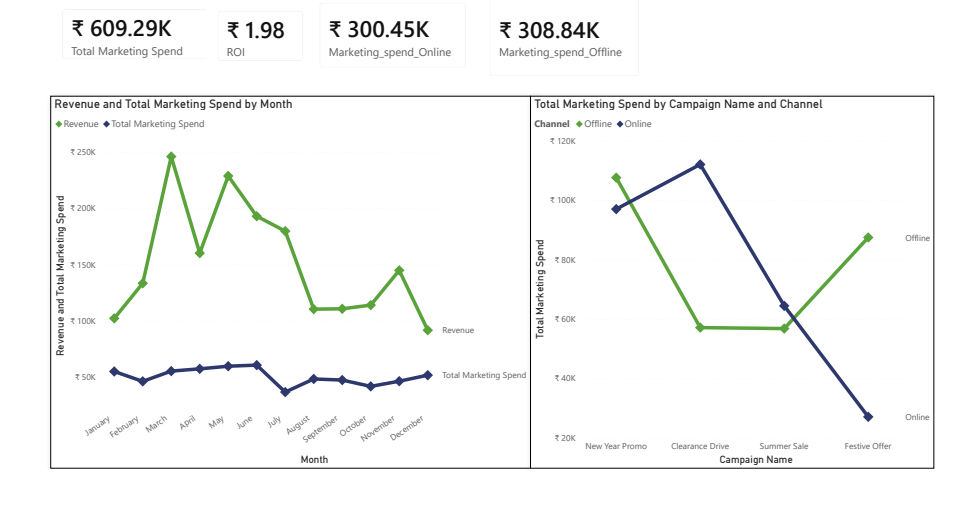

The dashboard page shown, as its layout file describes it:
{"tool":"powerbi","page":{"name":"Marketing  View","canvas":[1280,720],"ordinal":1},"visuals":[{"type":"cardVisual","fields":{"Data":["Dim_channel.Total Marketing Spend"]},"box":[19.2,48,242.9,105.7],"z":0},{"type":"lineChart","fields":{"Category":["Dim_date.Date.Variation.Date Hierarchy.Month"],"Y":["Dim_channel.Revenue","Dim_channel.Total Marketing Spend"]},"box":[19.2,188,684.7,532.4],"z":1000},{"type":"cardVisual","fields":{"Data":["Dim_channel.ROI"]},"box":[241.5,49.4,155.1,105.7],"z":2000},{"type":"lineChart","fields":{"Y":["Dim_channel.Total Marketing Spend"],"Category":["Marketing_Table.Campaign Name"],"Series":["Dim_channel.Channel"]},"box":[703.9,188,576.3,532.4],"z":2001},{"type":"cardVisual","fields":{"Data":["Dim_channel.Marketing_spend_Online"]},"box":[387,38.4,242.9,126.2],"z":2002},{"type":"cardVisual","fields":{"Data":["Dim_channel.Marketing_spend_Offline"]},"box":[629.8,27.4,247,149.6],"z":2003}]}

Visuals, with their boxes in screenshot pixels (x1, y1, x2, y2):
cardVisual - Dim_channel.Total Marketing Spend: rect(53, 0, 222, 72)
lineChart - Dim_date.Date.Variation.Date Hierarchy.Month x Dim_channel.Revenue: rect(53, 95, 529, 465)
cardVisual - Dim_channel.ROI: rect(208, 0, 315, 73)
lineChart - Dim_channel.Total Marketing Spend x Marketing_Table.Campaign Name: rect(529, 95, 928, 465)
cardVisual - Dim_channel.Marketing_spend_Online: rect(309, 0, 477, 79)
cardVisual - Dim_channel.Marketing_spend_Offline: rect(477, 0, 648, 88)
